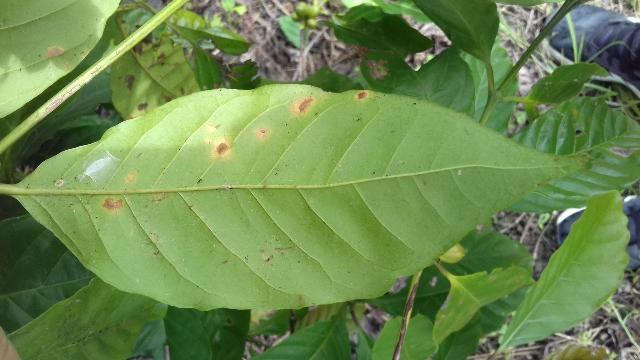rust_level_1: (13, 87, 585, 309)
